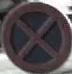No Stopping: (4, 4, 67, 70)
